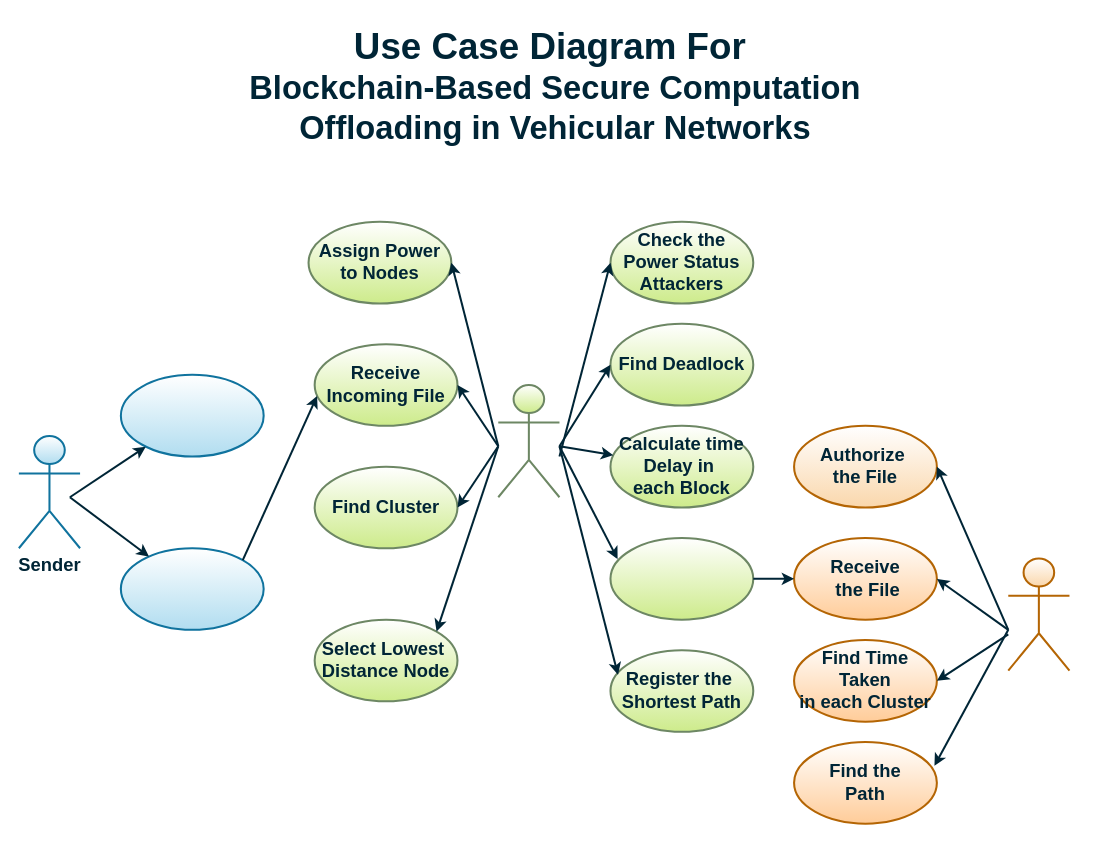
This 1106x842 diagram has some shape labels left out. Here are the shapes that lost their labels. From the top down, the centre of each, then its label:
At (191,415): "Browse the File".
At (528,441): "Vehicular Network Router".
At (191,588): "Send the File".
At (681,578): "Send File to Destination".
At (1038,614): "Destination".
